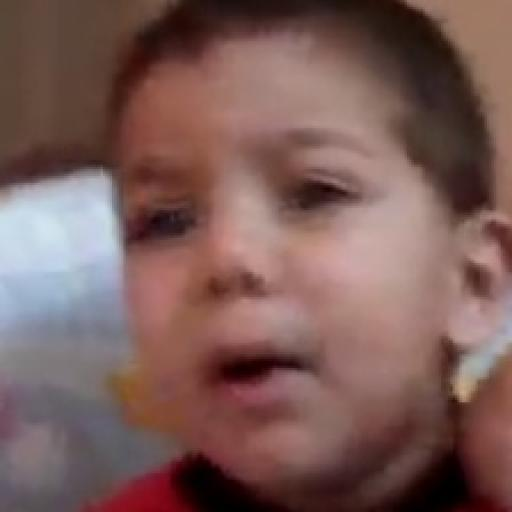Autism: (80, 18, 500, 508)
